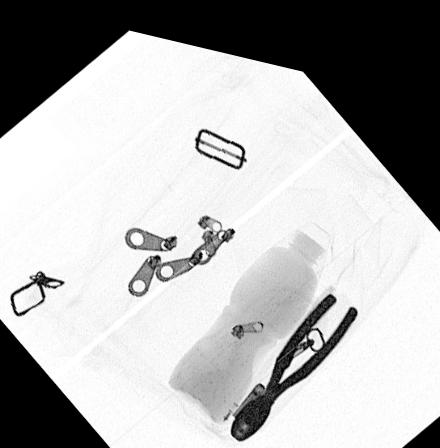Pliers: (224, 272, 360, 434)
